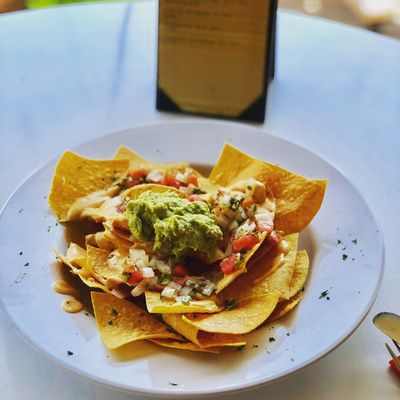curry: (124, 186, 224, 262)
salad: (372, 312, 400, 375)
soup: (49, 143, 326, 343)
